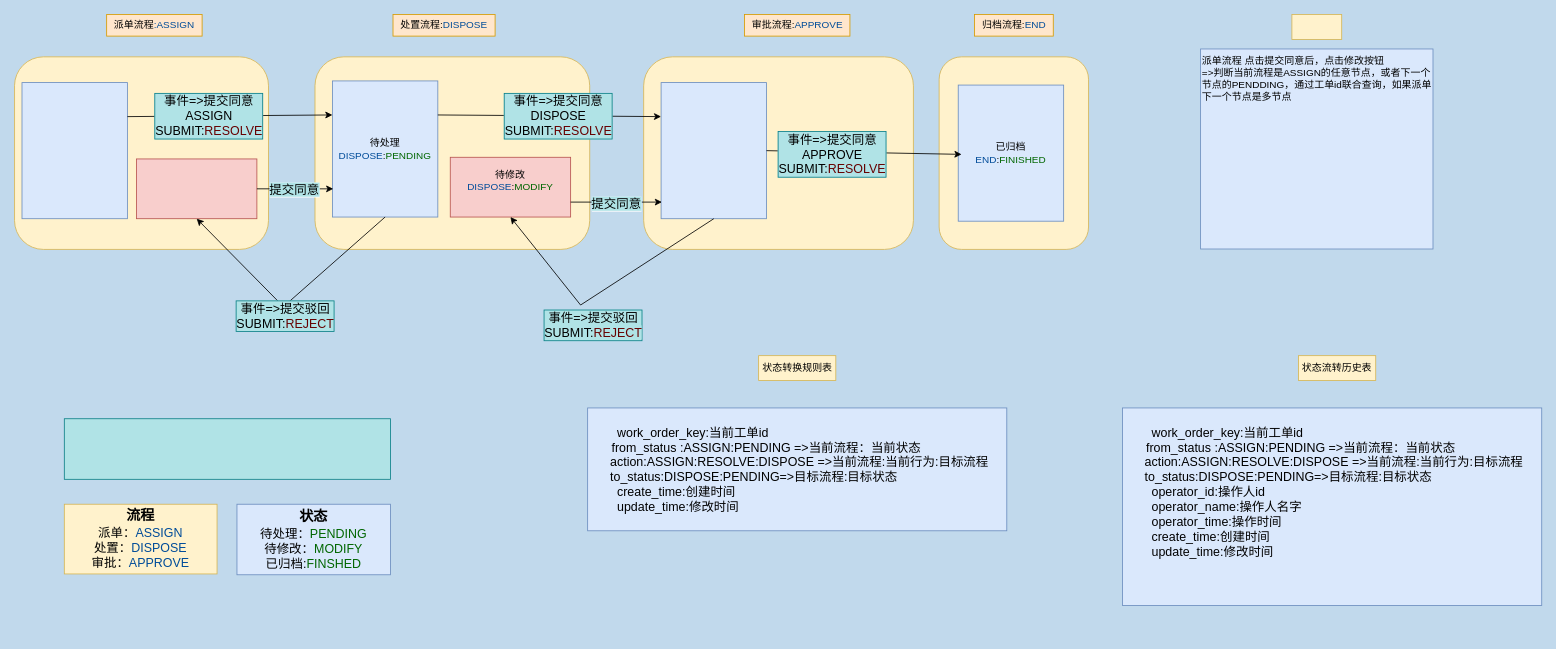
The diagram is 1556 pixels wide and 649 high, and some of its shapes have lost their labels. The centre of each missing label's shape, as x and y in pixels:
"待修改 ASSIGN : MODIFY" goes at point (196, 188).
"待处理 APPROVE : PENDING" goes at point (713, 150).
"待处理 ASSIGN : PENDING" goes at point (74, 150).
"用户操作" goes at point (1316, 26).
"行为 提交同意: RESOLVE 提交驳回: REJECT" goes at point (227, 448).
